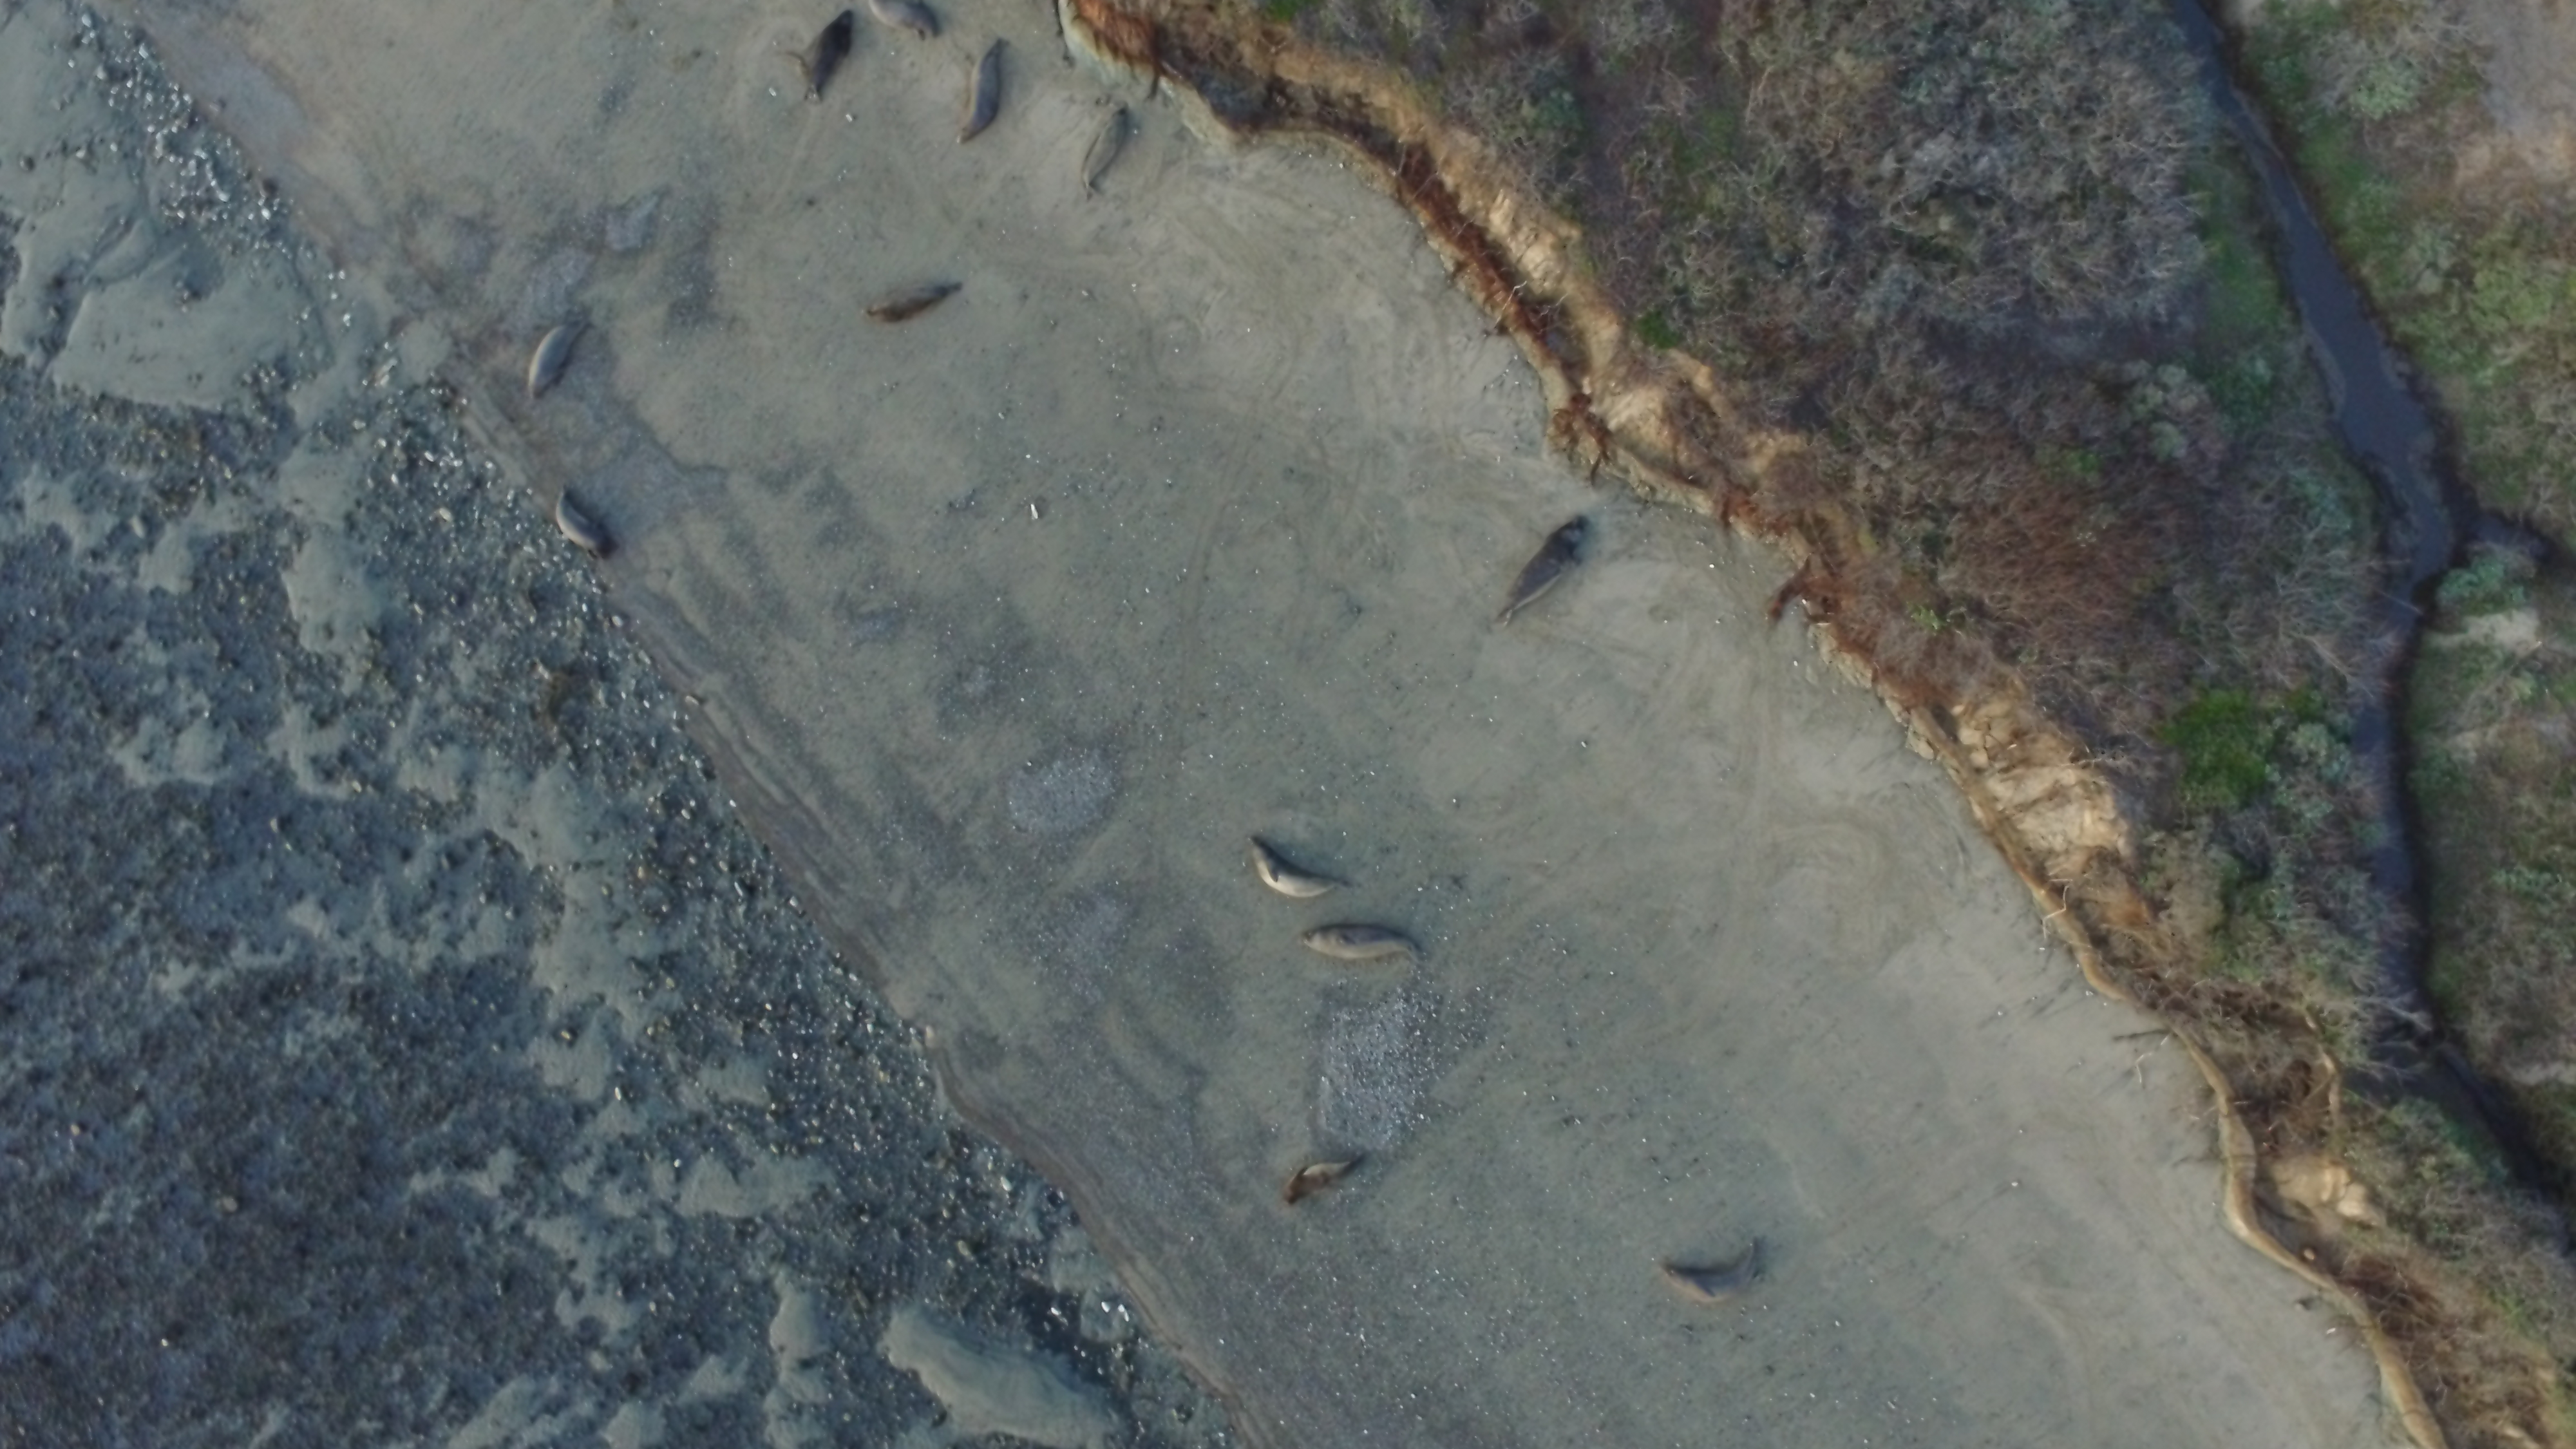adult male: (1493, 518, 1603, 632)
male juvenile / female juvenile / adult female: (1247, 837, 1359, 911), (1661, 1242, 1766, 1309), (517, 326, 600, 405), (955, 37, 1003, 149), (800, 12, 858, 103), (554, 488, 623, 563), (1085, 101, 1129, 202), (1284, 1159, 1371, 1205), (863, 285, 968, 320), (869, 0, 938, 42), (1297, 932, 1440, 945)
